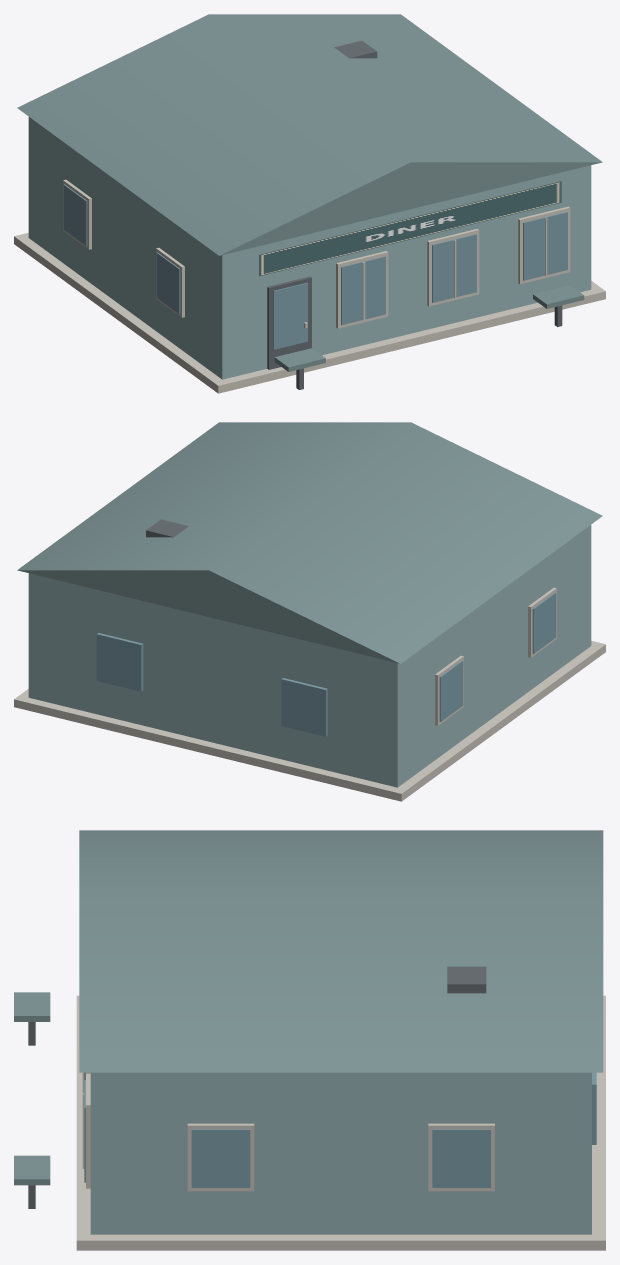
Rendered from diner.glb.
The picture shows the model from 3 angles, top to bottom: view 1: azimuth 30°, elevation 25°; view 2: azimuth 150°, elevation 25°; view 3: azimuth 270°, elevation 25°; orthographic projection. The views are drawn at different scales.
Visible parts, largest first — view 1: world; view 2: world; view 3: world.
Part boxes in pixels (x1=…): world: x1=14, y1=14, x2=605, y2=393; world: x1=14, y1=422, x2=605, y2=801; world: x1=14, y1=830, x2=605, y2=1250.
Size of the model in its own units: 10.4 by 4.7 by 10.62.
Materials: 2 (1 with a texture image).
